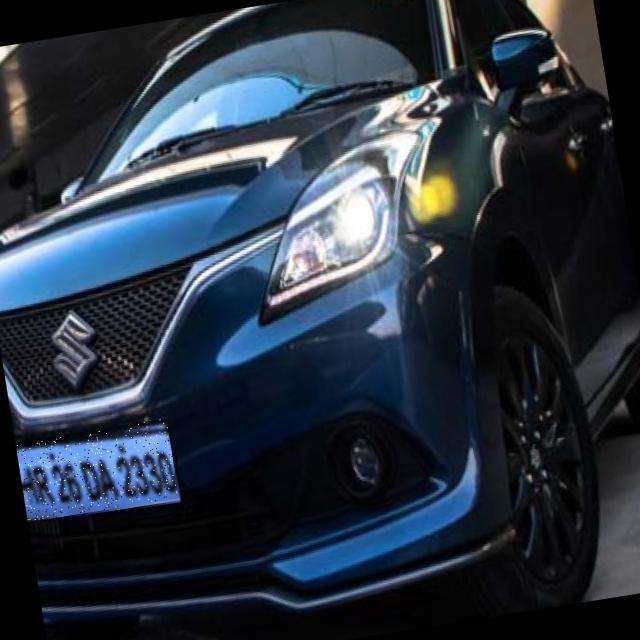Plate: (17, 419, 181, 523)
